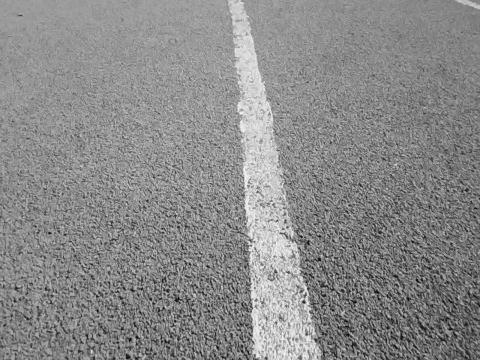Lines: (227, 0, 323, 360)
